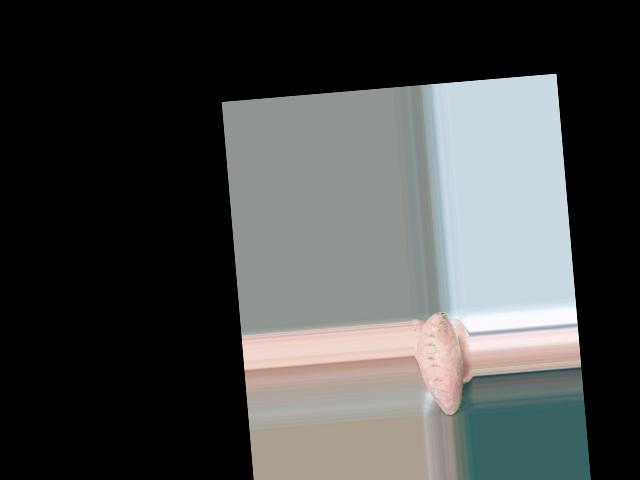sweet_potato: (417, 310, 462, 416)
